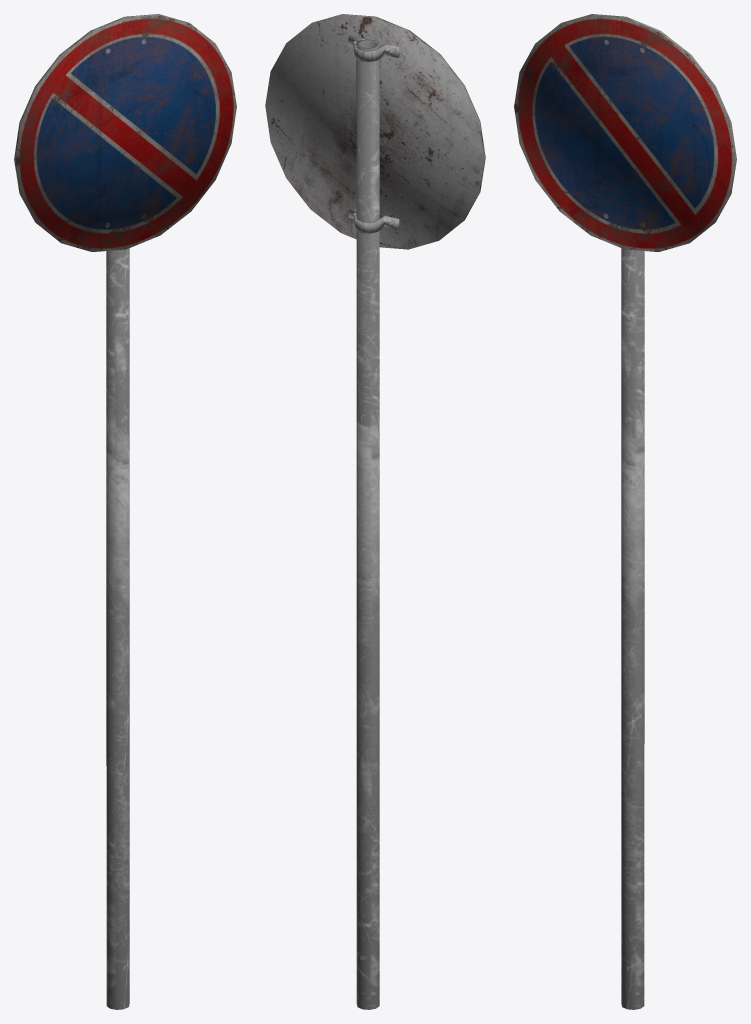
The model's file is no-waiting.glb.
The picture shows the model from 3 angles, left to right: view 1: azimuth 30°, elevation 25°; view 2: azimuth 150°, elevation 25°; view 3: azimuth 330°, elevation 25°; orthographic projection.
Parts seen in each view (by area): view 1: no_waiting_mesh; view 2: no_waiting_mesh; view 3: no_waiting_mesh.
Boxes of the visible parts, x1,y1,x2,y2 form: no_waiting_mesh: (14, 14, 236, 1009); no_waiting_mesh: (265, 14, 485, 1009); no_waiting_mesh: (514, 14, 736, 1009).
Bounding box in the file's own units: 1.41 × 6.04 × 0.1749.
4 materials, 4 textured.
